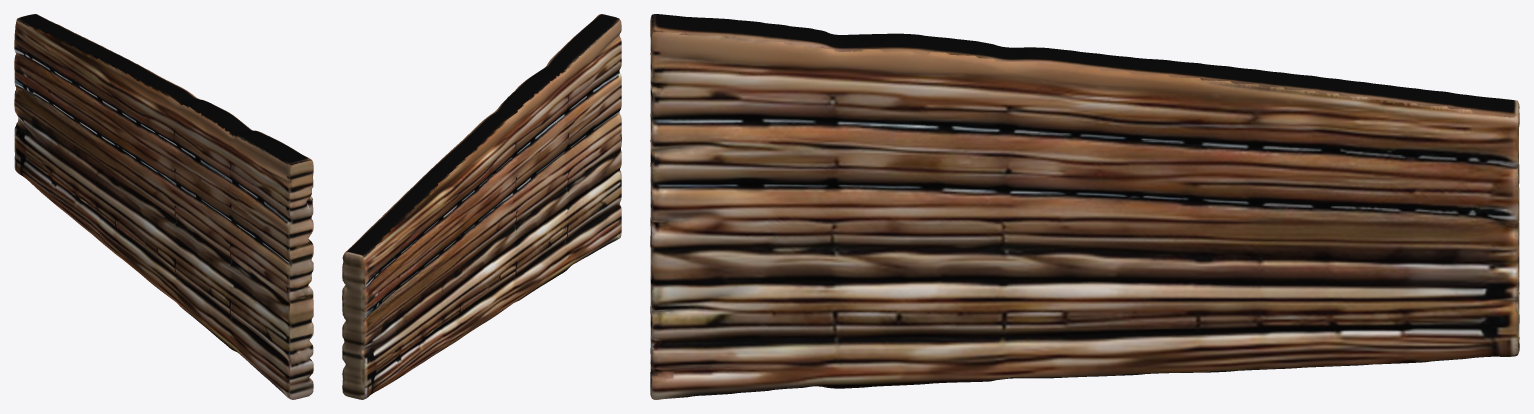
Rendered from empalizada.glb.
3 views of the same model, side by side, from view 1: azimuth 30°, elevation 25°; view 2: azimuth 150°, elevation 25°; view 3: azimuth 270°, elevation 25° (orthographic). The views are drawn at different scales.
Parts seen in each view (by area): view 1: tmp0axxv2j2.ply; view 2: tmp0axxv2j2.ply; view 3: tmp0axxv2j2.ply.
Part boxes in pixels (left/top/right/bottom): tmp0axxv2j2.ply: left=14, top=14, right=313, bottom=399; tmp0axxv2j2.ply: left=342, top=14, right=621, bottom=399; tmp0axxv2j2.ply: left=650, top=14, right=1519, bottom=399.
Bounding box in the file's own units: 0.055 × 0.4686 × 0.9891.
Materials: 1 (1 with a texture image).
